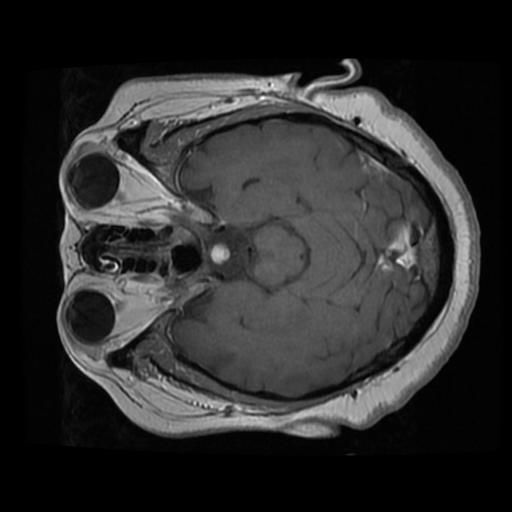pituitary tumour: (210, 240, 230, 266)
